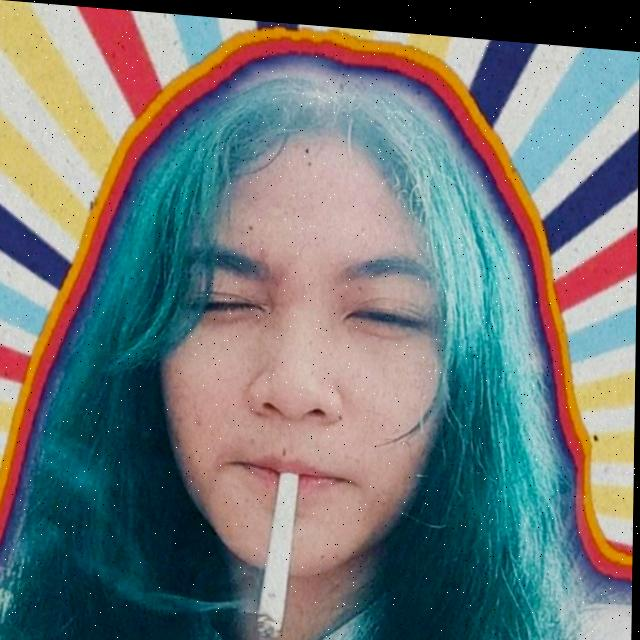cigarette: (257, 464, 302, 639)
